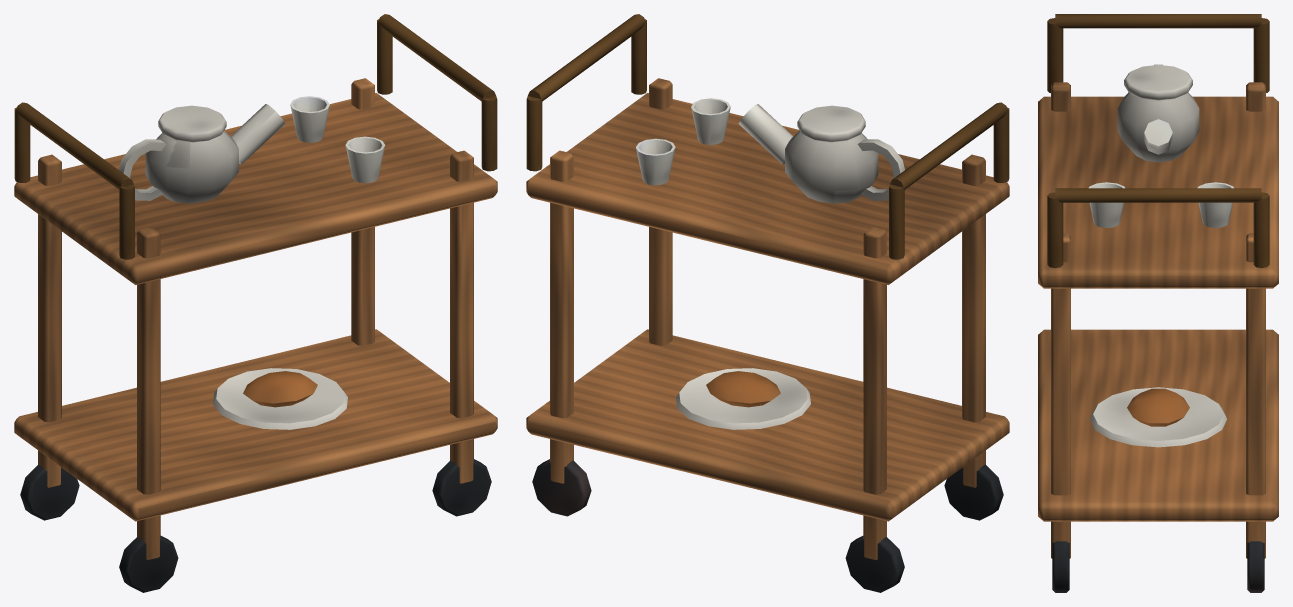
The model's file is Furn_Life_TeaWagon.fbx.
The picture shows the model from 3 angles, left to right: view 1: azimuth 30°, elevation 25°; view 2: azimuth 150°, elevation 25°; view 3: azimuth 270°, elevation 25°; orthographic projection.
Visible parts, largest first — view 1: Furn_Life_TeaWagon; view 2: Furn_Life_TeaWagon; view 3: Furn_Life_TeaWagon.
Boxes of the visible parts, box(x1,y1,x2,y2) form: Furn_Life_TeaWagon: box(14, 14, 497, 592); Furn_Life_TeaWagon: box(526, 14, 1009, 592); Furn_Life_TeaWagon: box(1038, 14, 1278, 592).
Bounding box in the file's own units: 0.8 × 0.85 × 0.45.
1 material, 1 textured.
